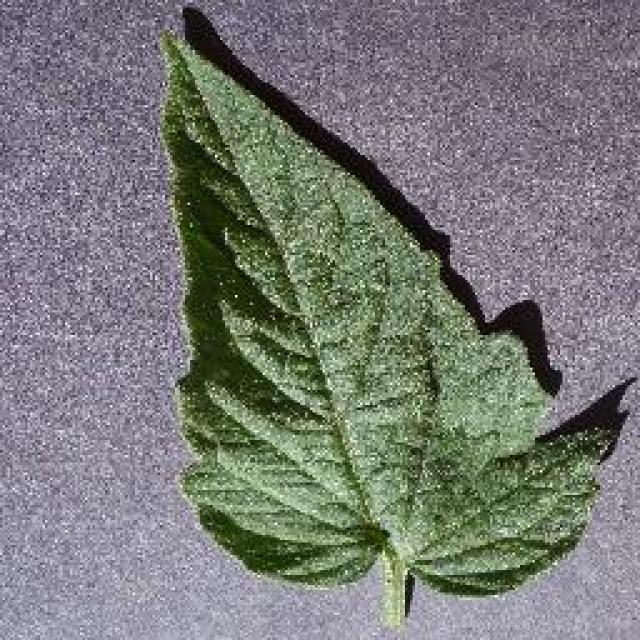Tomato healthy leaf: (141, 38, 609, 620)
